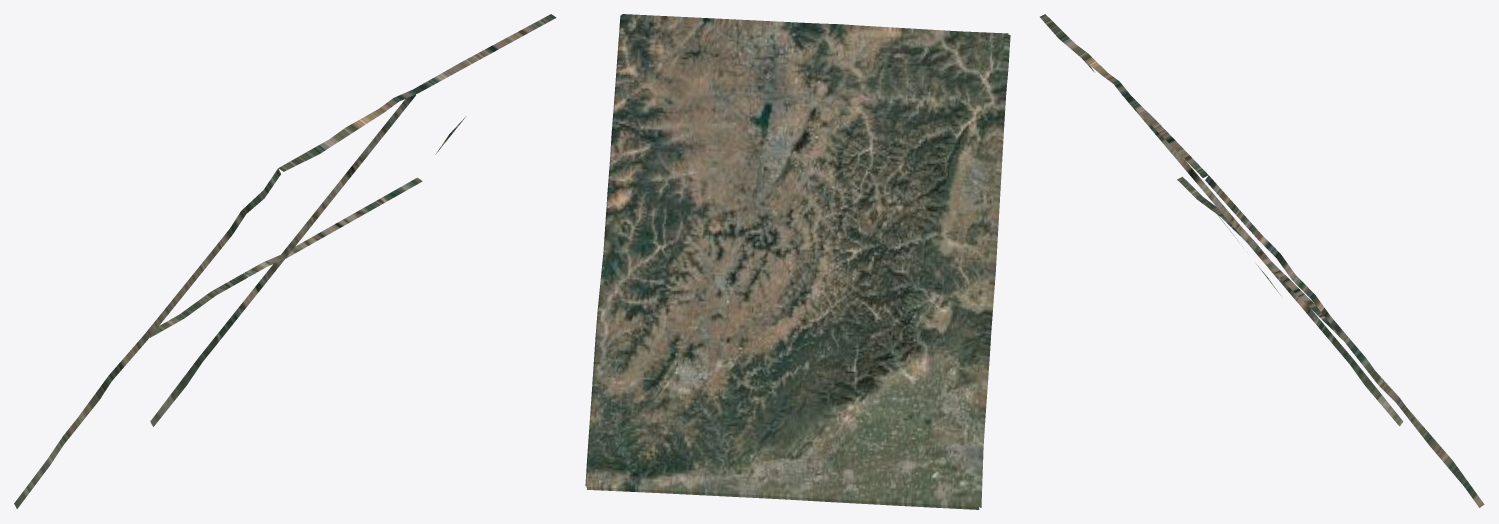
3 renders of one model, left to right at view 1: azimuth 30°, elevation 25°; view 2: azimuth 150°, elevation 25°; view 3: azimuth 270°, elevation 25°, orthographic. The views are drawn at different scales.
Bounding box in the file's own units: 154702 × 130245 × 135940.
Materials: 1 (1 with a texture image).
